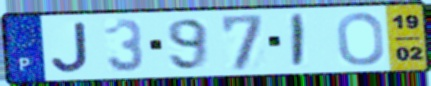3: (101, 17, 145, 75)
7: (218, 12, 266, 72)
9: (166, 17, 212, 71)
I: (290, 12, 307, 70)
J: (49, 20, 91, 74)
O: (334, 11, 387, 68)
